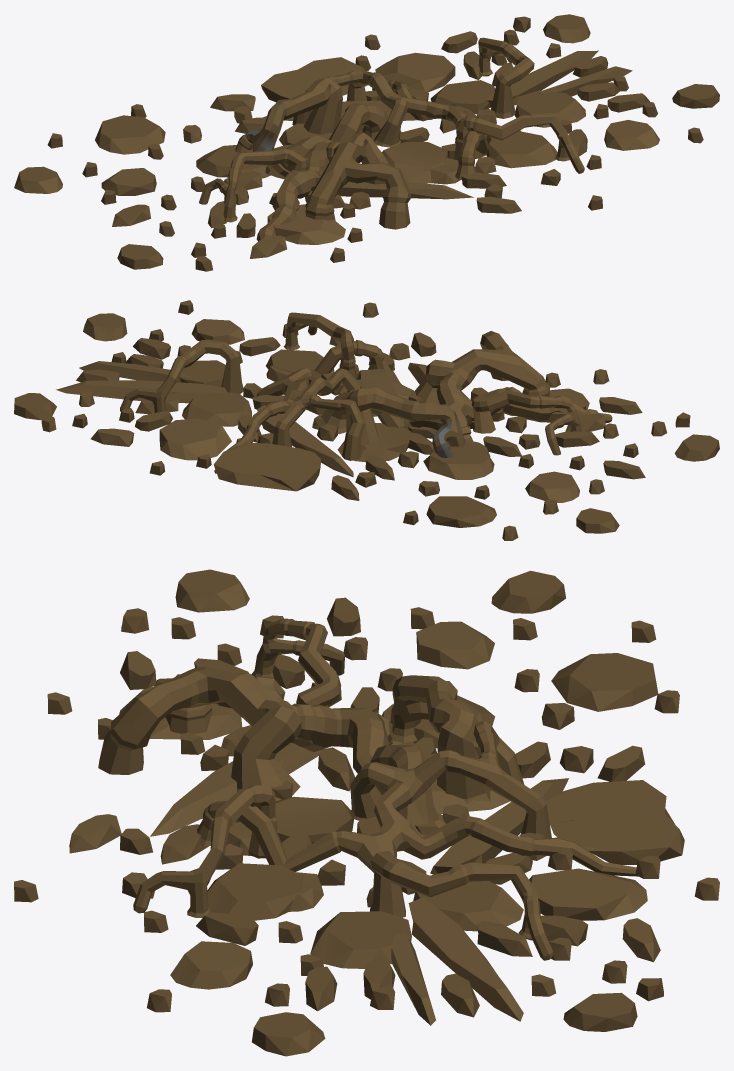
File: EA_Swamp_Dirt_Root_04d.glb
3 views of the same model, one above another, from view 1: azimuth 30°, elevation 25°; view 2: azimuth 150°, elevation 25°; view 3: azimuth 270°, elevation 25° (orthographic). The views are drawn at different scales.
Visible parts, largest first — view 1: EA_Swamp_Dirt_Root_04d; view 2: EA_Swamp_Dirt_Root_04d; view 3: EA_Swamp_Dirt_Root_04d.
Boxes of the visible parts, x1,y1,x2,y2 form: EA_Swamp_Dirt_Root_04d: [14, 14, 719, 271]; EA_Swamp_Dirt_Root_04d: [14, 300, 719, 540]; EA_Swamp_Dirt_Root_04d: [14, 569, 719, 1056].
Size of the model in its own units: 9.29 by 0.976 by 5.84.
1 material, 1 textured.
